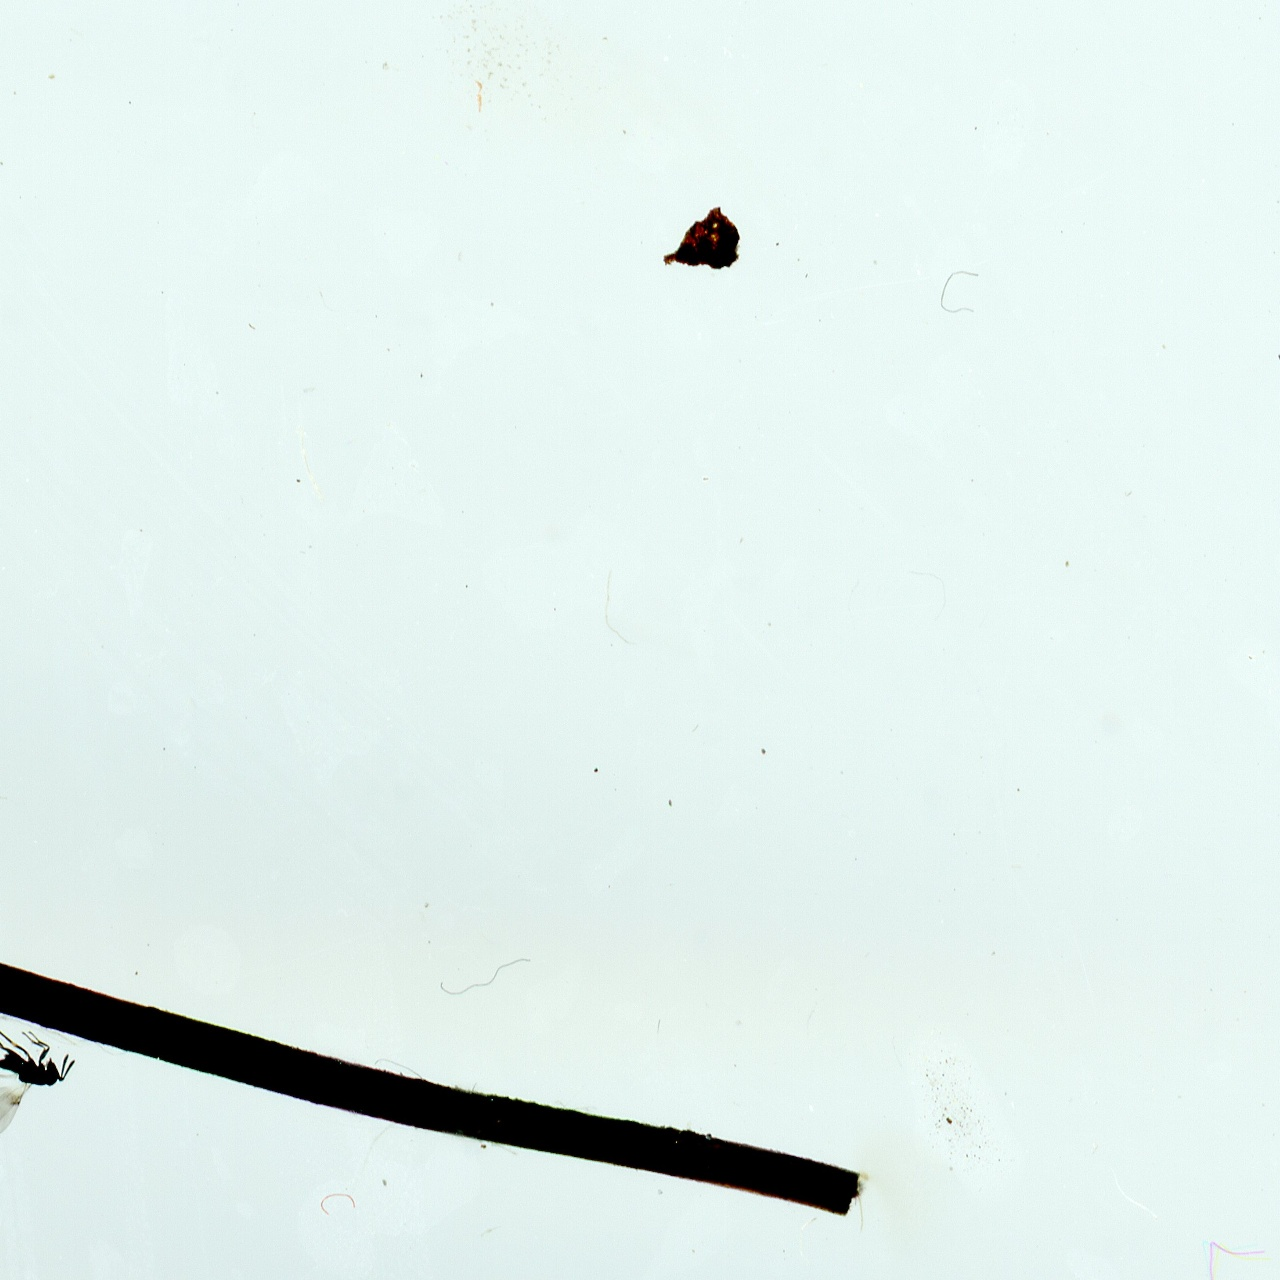arthropod: (0, 1009, 79, 1140)
